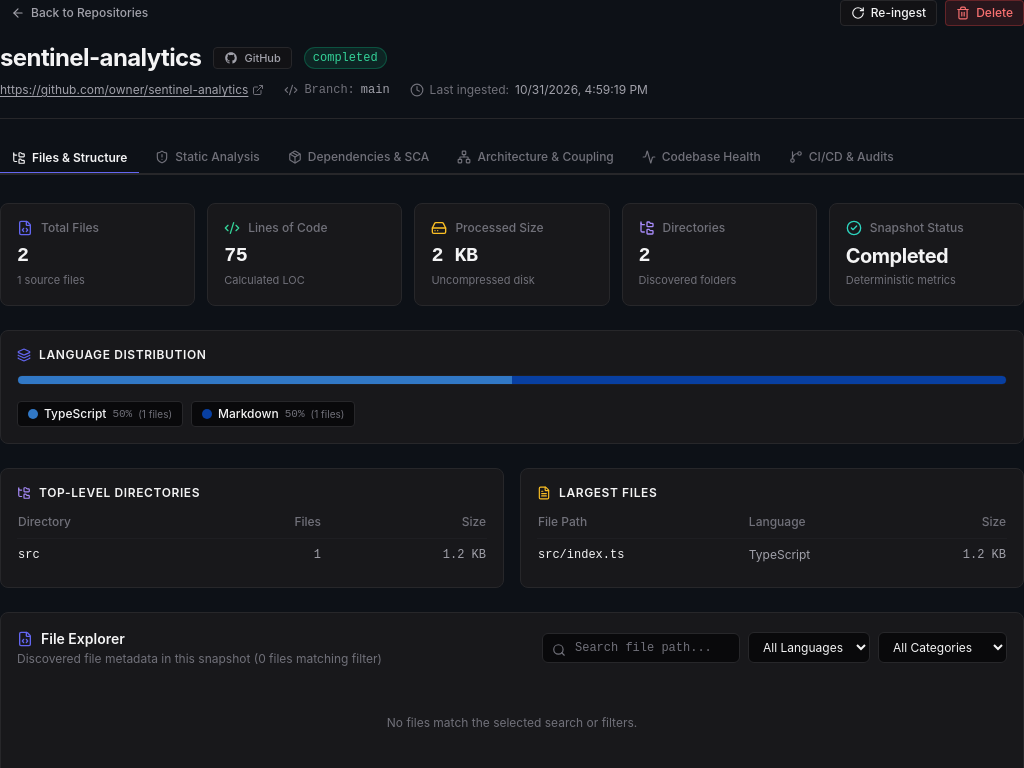
RepositoryDetailView Component › switches to Architecture and Codebase Health tabs
Click the button "Architecture & Coupling". click: (536, 158)
box: left=445, top=143, right=626, bottom=173
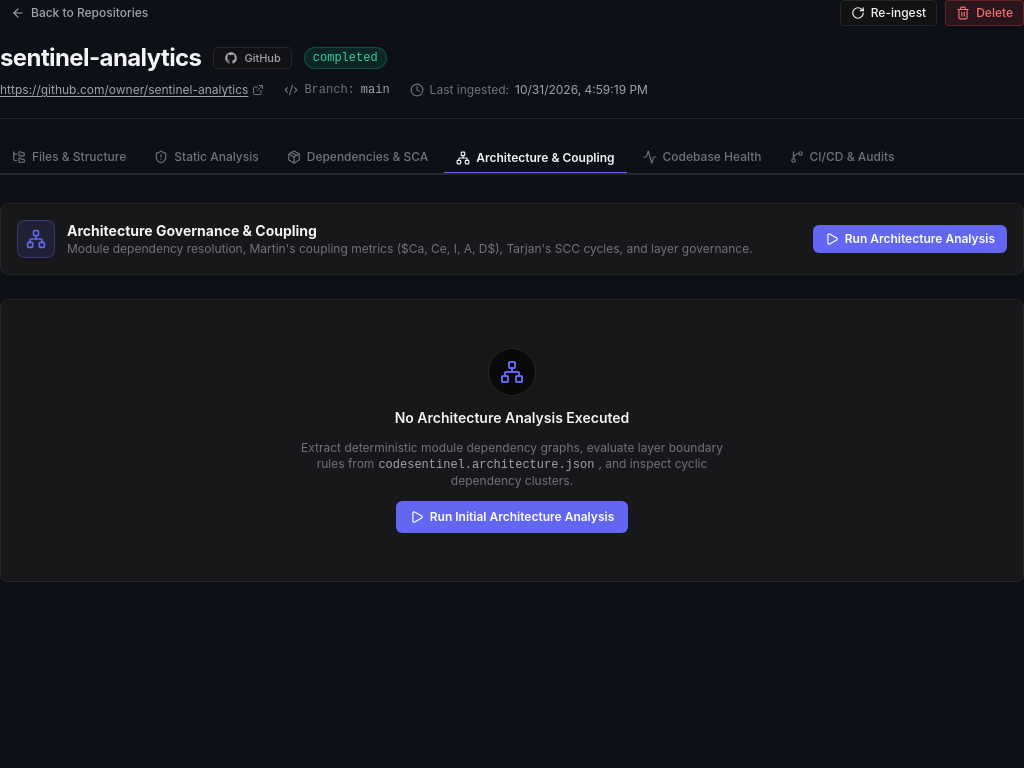
Expected: the heading "Architecture Governance & Coupling" is shown, left=67, top=221, right=317, bottom=241
Click the button "Codebase Health". click: (702, 158)
box: left=630, top=143, right=774, bottom=173
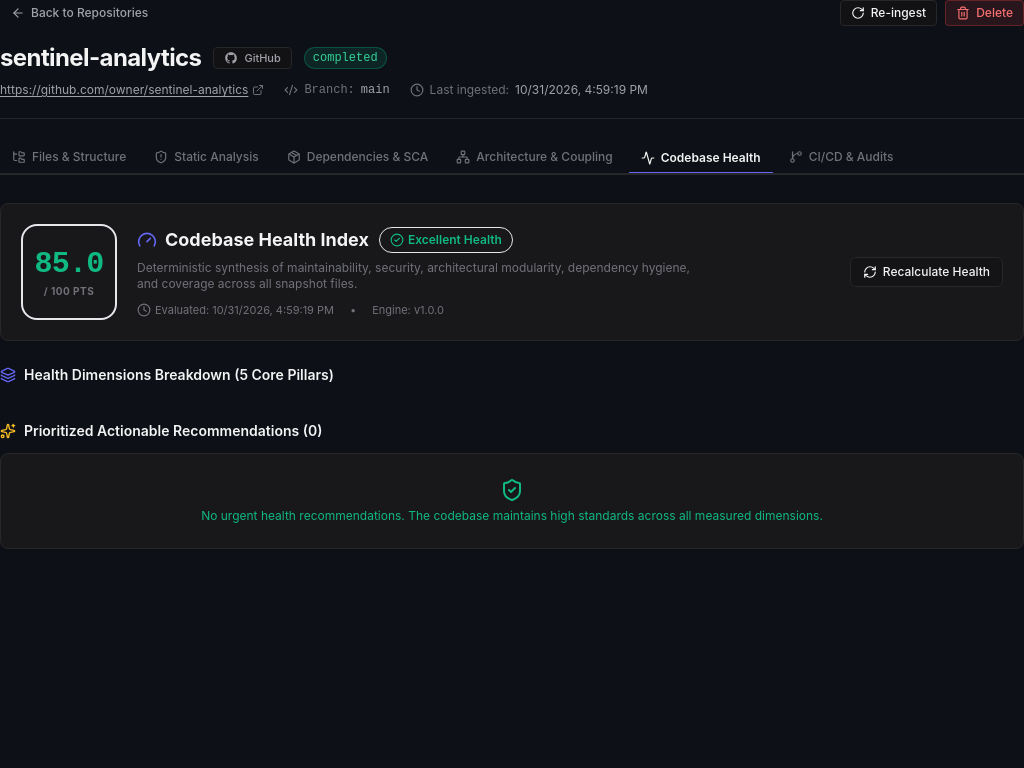
Expected: the heading "Codebase Health Index" is shown, left=137, top=226, right=369, bottom=254
